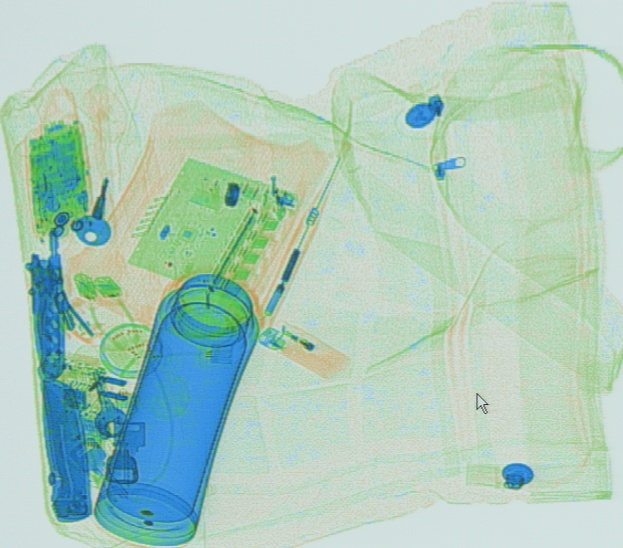knife: (37, 371, 92, 522), (22, 250, 70, 380)
lighter: (253, 318, 353, 381)
